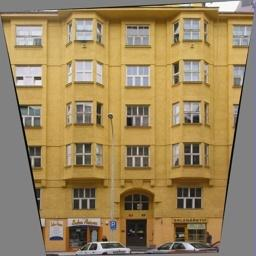building: (46, 2, 219, 256)
